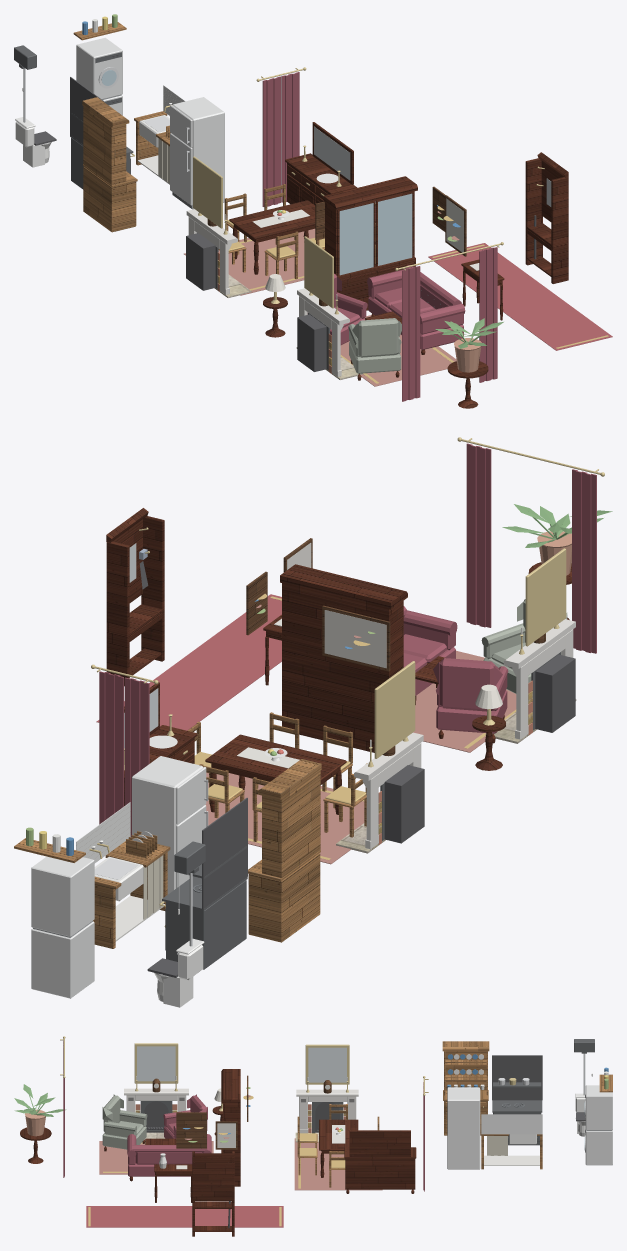
Rendered from furn_0_r.glb.
3 views of the same model, one above another, from view 1: azimuth 30°, elevation 25°; view 2: azimuth 150°, elevation 25°; view 3: azimuth 270°, elevation 25° (orthographic). The views are drawn at different scales.
Visible parts, largest first — view 1: furn_0_r_mahog, furn_0_r_velvet, furn_0_r_wood, furn_0_r_appl, furn_0_r_carpet_r, furn_0_r_glass, furn_0_r_dark, furn_0_r_brass, furn_0_r_rug, furn_0_r_mantel, furn_0_r_fabric_g, furn_0_r_porcelain (+9 smaller); view 2: furn_0_r_mahog, furn_0_r_velvet, furn_0_r_wood, furn_0_r_appl, furn_0_r_dark, furn_0_r_carpet_r, furn_0_r_brass, furn_0_r_iron, furn_0_r_rug, furn_0_r_mantel, furn_0_r_paper, furn_0_r_porcelain (+10 smaller); view 3: furn_0_r_mahog, furn_0_r_appl, furn_0_r_carpet_r, furn_0_r_wood, furn_0_r_dark, furn_0_r_velvet, furn_0_r_mirror, furn_0_r_rug, furn_0_r_mantel, furn_0_r_iron, furn_0_r_fabric_g, furn_0_r_dkwood (+9 smaller).
Part boxes in pixels (x1,y1,x2,y2): furn_0_r_mahog: (229, 122, 568, 408); furn_0_r_velvet: (262, 72, 497, 401); furn_0_r_wood: (73, 22, 324, 279); furn_0_r_appl: (76, 37, 224, 209); furn_0_r_carpet_r: (428, 243, 612, 350); furn_0_r_glass: (101, 70, 412, 275); furn_0_r_dark: (34, 54, 536, 371); furn_0_r_brass: (130, 67, 544, 314); furn_0_r_rug: (184, 211, 459, 386); furn_0_r_mantel: (186, 209, 349, 376); furn_0_r_fabric_g: (348, 318, 401, 373); furn_0_r_porcelain: (15, 88, 338, 219); furn_0_r_mahog: (106, 508, 571, 814); furn_0_r_velvet: (99, 443, 596, 837); furn_0_r_wood: (14, 712, 367, 948); furn_0_r_appl: (31, 756, 206, 998); furn_0_r_dark: (139, 561, 575, 977); furn_0_r_carpet_r: (96, 594, 281, 730); furn_0_r_brass: (89, 437, 604, 927); furn_0_r_iron: (162, 652, 560, 969); furn_0_r_rug: (205, 604, 516, 864); furn_0_r_mantel: (354, 619, 575, 849); furn_0_r_paper: (237, 543, 522, 768); furn_0_r_porcelain: (91, 735, 287, 1007); furn_0_r_mahog: (20, 1069, 416, 1236); furn_0_r_appl: (447, 1085, 612, 1169); furn_0_r_carpet_r: (86, 1206, 283, 1227); furn_0_r_wood: (297, 1041, 612, 1187); furn_0_r_dark: (144, 1055, 585, 1228); furn_0_r_velvet: (63, 1041, 424, 1191); furn_0_r_mirror: (137, 1046, 346, 1082); furn_0_r_rug: (99, 1095, 382, 1190); furn_0_r_mantel: (124, 1088, 358, 1133); furn_0_r_iron: (140, 1039, 594, 1145); furn_0_r_fabric_g: (102, 1094, 147, 1149); furn_0_r_dkwood: (152, 1075, 331, 1149).
Bounding box in the file's own units: 5.95 × 2.63 × 13.65.
Materials: 42 (5 with a texture image).
